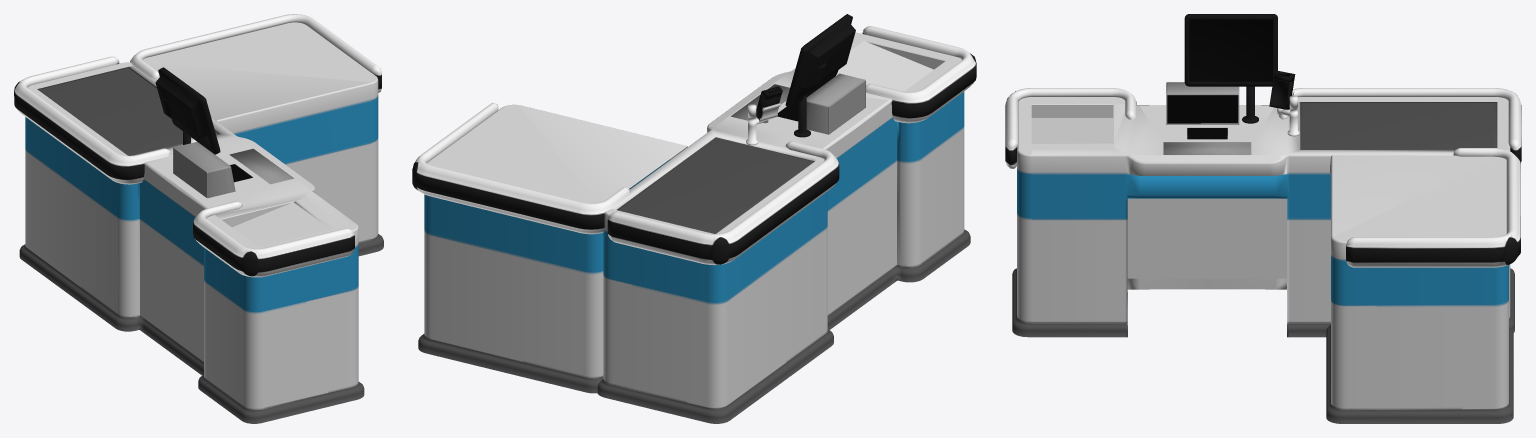
The model's file is pos2a.fbx.
The picture shows the model from 3 angles, left to right: view 1: azimuth 30°, elevation 25°; view 2: azimuth 150°, elevation 25°; view 3: azimuth 270°, elevation 25°; orthographic projection. The views are drawn at different scales.
Visible parts, largest first — view 1: body_skin_body_0.002, body_skin_body_0.004, body_skin_body_0.005; view 2: body_skin_body_0.002, body_skin_body_0.004, body_skin_body_0.005, body_skin_body_0.006; view 3: body_skin_body_0.002, body_skin_body_0.004, body_skin_body_0.005, body_skin_body_0.006.
Part boxes in pixels (x1,y1,x2,y2): body_skin_body_0.002: (19,22,383,423); body_skin_body_0.004: (14,14,381,277); body_skin_body_0.005: (155,67,220,154); body_skin_body_0.002: (418,32,970,423); body_skin_body_0.004: (412,26,976,265); body_skin_body_0.005: (785,14,855,108); body_skin_body_0.006: (746,86,782,145); body_skin_body_0.002: (1012,97,1514,423); body_skin_body_0.004: (1005,82,1521,267); body_skin_body_0.005: (1184,14,1277,86); body_skin_body_0.006: (1269,71,1299,136).
Size of the model in its own units: 60.89 by 50.79 by 85.26.
2 materials, 2 textured.
